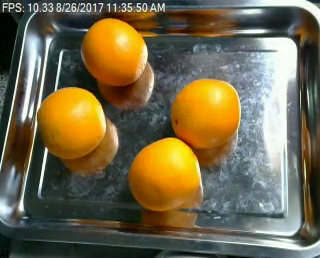Orange: (127, 138, 200, 211), (170, 78, 241, 150), (37, 85, 105, 158), (80, 17, 145, 85)
